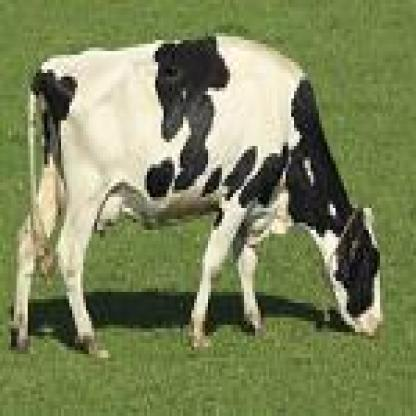cow: (11, 36, 383, 354)
